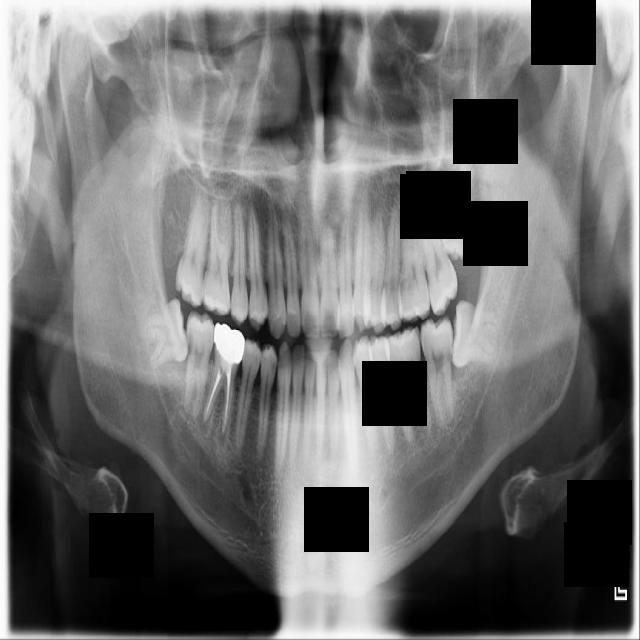52: (213, 322, 245, 379)
73: (199, 366, 239, 439), (582, 594, 586, 602)
BioHorizons Implant: (414, 193, 462, 317)
BioLife Implant: (439, 154, 474, 260)
Biomet 3i Implant: (448, 299, 504, 373)
Blue Sky Bio Implant: (419, 316, 458, 430)
Caries: (173, 184, 211, 309)
Implant: (181, 311, 216, 421)
Keystone Dental Implant: (135, 296, 195, 369)
